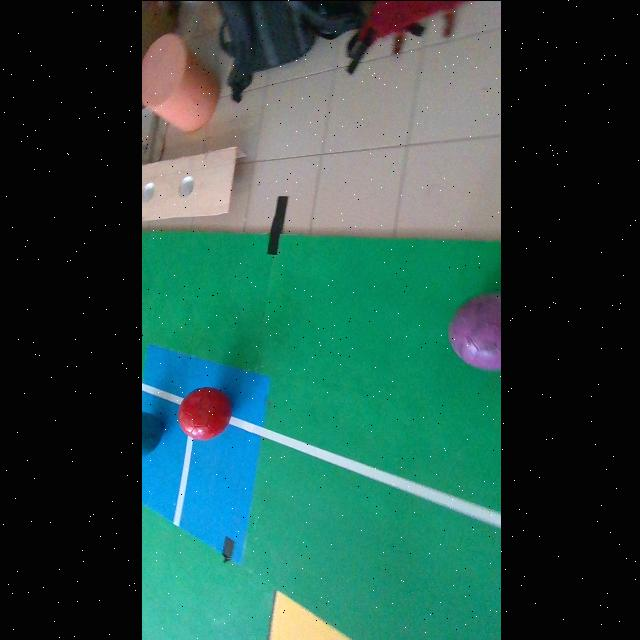B: (140, 412, 161, 456)
P: (447, 293, 500, 370)
R: (176, 387, 230, 440)
